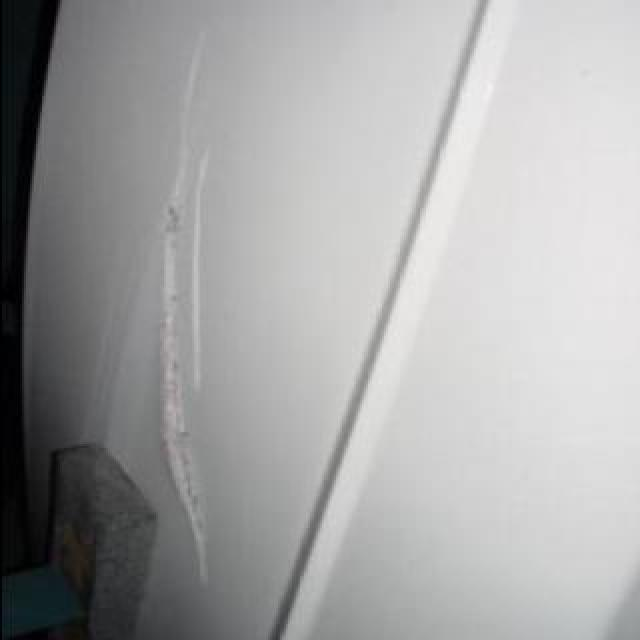crack: (155, 29, 211, 587)
